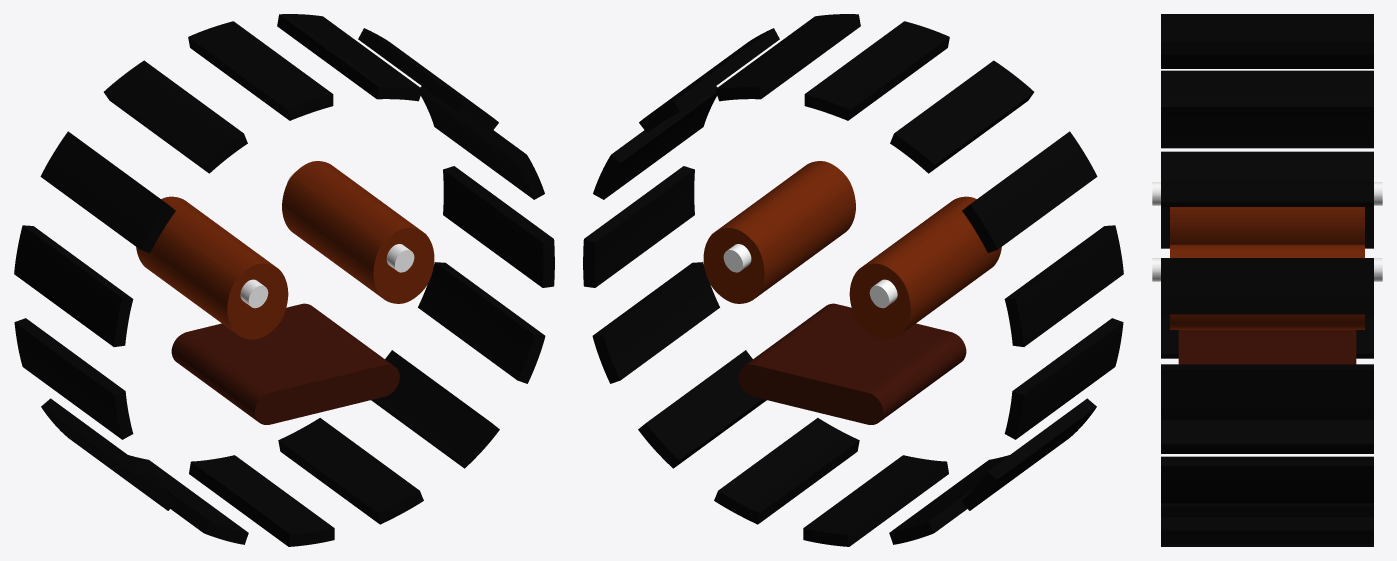
Rendered from U+1FAE5.obj.
3 renders of one model, left to right at view 1: azimuth 30°, elevation 25°; view 2: azimuth 150°, elevation 25°; view 3: azimuth 270°, elevation 25°, orthographic. The views are drawn at different scales.
Parts seen in each view (by area): view 1: U+1FAE5_layer02_obj00, U+1FAE5_layer00_obj00, U+1FAE5_layer01_obj01, U+1FAE5_layer01_obj00; view 2: U+1FAE5_layer02_obj00, U+1FAE5_layer00_obj00, U+1FAE5_layer01_obj01, U+1FAE5_layer01_obj00; view 3: U+1FAE5_layer02_obj00, U+1FAE5_layer01_obj00, U+1FAE5_layer00_obj00, U+1FAE5_layer01_obj01, U+1FAE5_layer03_obj00, U+1FAE5_layer03_obj01.
Part boxes in pixels (x1,y1,x2,y2): U+1FAE5_layer02_obj00: (14,14,554,546); U+1FAE5_layer00_obj00: (171,303,399,424); U+1FAE5_layer01_obj01: (282,161,434,303); U+1FAE5_layer01_obj00: (136,196,288,339); U+1FAE5_layer02_obj00: (583,14,1123,546); U+1FAE5_layer00_obj00: (738,303,966,424); U+1FAE5_layer01_obj01: (703,161,855,303); U+1FAE5_layer01_obj00: (849,196,1001,339); U+1FAE5_layer02_obj00: (1161,14,1373,546); U+1FAE5_layer01_obj00: (1170,207,1364,244); U+1FAE5_layer00_obj00: (1178,330,1356,364); U+1FAE5_layer01_obj01: (1170,244,1364,329); U+1FAE5_layer03_obj00: (1152,182,1382,205); U+1FAE5_layer03_obj01: (1152,258,1382,281).
Size of the model in its own units: 0.3062 by 0.296 by 0.13.
